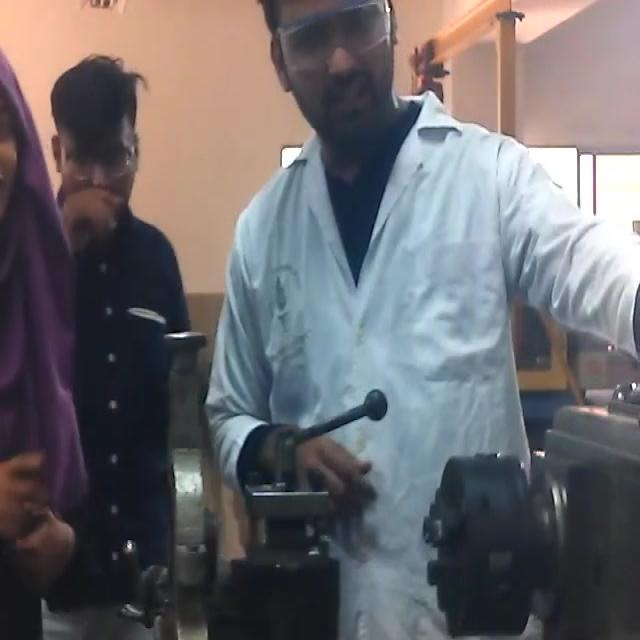googles: (274, 0, 397, 73), (59, 127, 136, 188)
labcoat: (203, 90, 640, 640)
